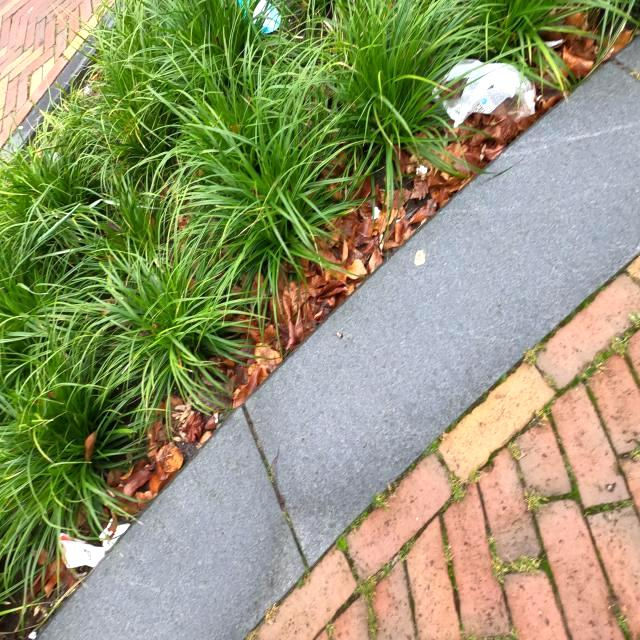Plastic: (430, 56, 538, 128), (59, 516, 131, 570), (237, 0, 285, 34)
